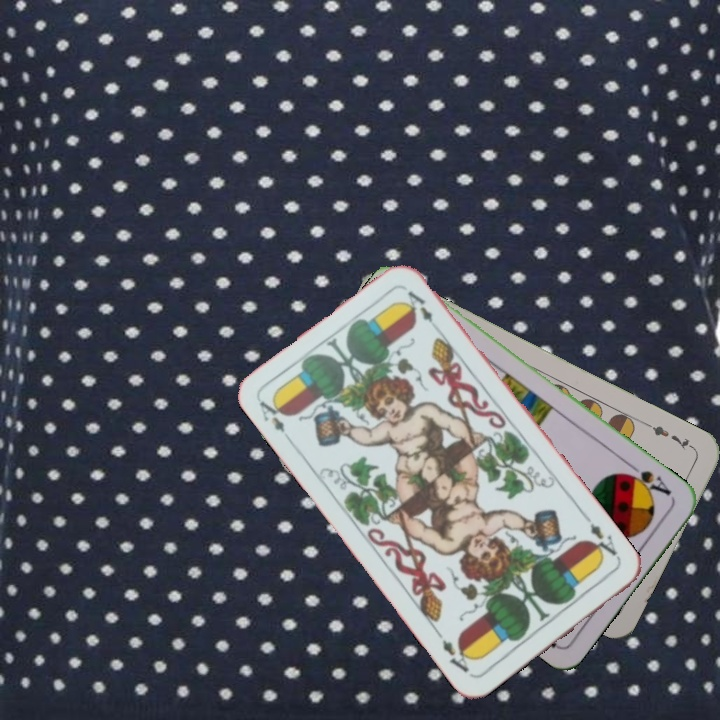E7: (642, 419, 697, 453)
EA: (581, 512, 623, 563), (255, 394, 296, 445)
SA: (619, 459, 674, 499)
